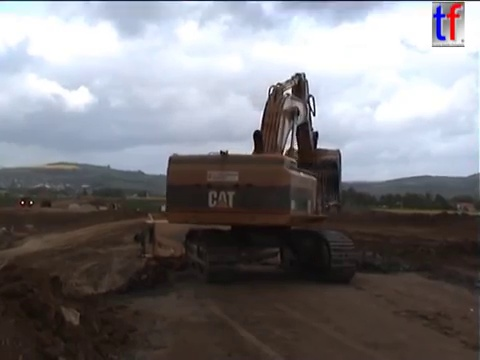excavator: (153, 68, 363, 286)
truck: (131, 210, 284, 291), (18, 194, 37, 209), (38, 194, 54, 209)
